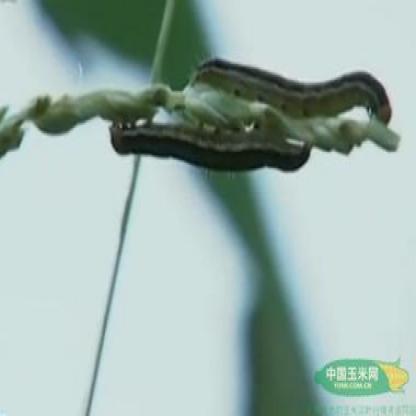armyworm: (195, 56, 395, 122), (106, 115, 314, 175)
